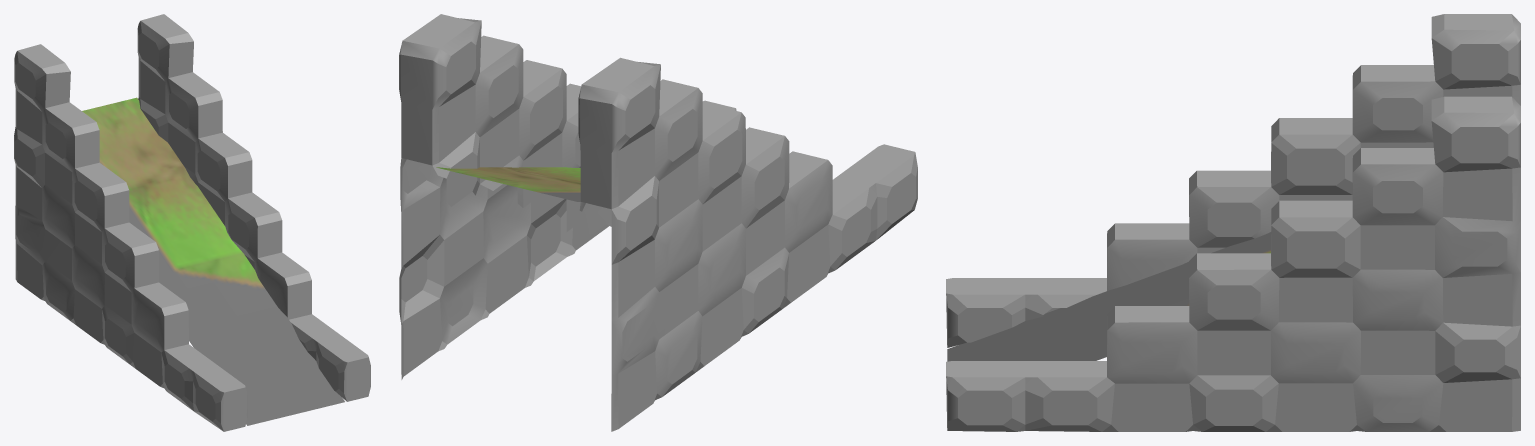
The model's file is Side_Ramp.fbx.
3 renders of one model, left to right at view 1: azimuth 30°, elevation 25°; view 2: azimuth 150°, elevation 25°; view 3: azimuth 270°, elevation 25°, orthographic. The views are drawn at different scales.
Visible parts, largest first — view 1: Side_Ramp; view 2: Side_Ramp; view 3: Side_Ramp.
Boxes of the visible parts, x1,y1,x2,y2 form: Side_Ramp: [14, 14, 370, 431]; Side_Ramp: [399, 14, 917, 431]; Side_Ramp: [946, 14, 1520, 431].
Size of the model in its own units: 217 by 307 by 502.
